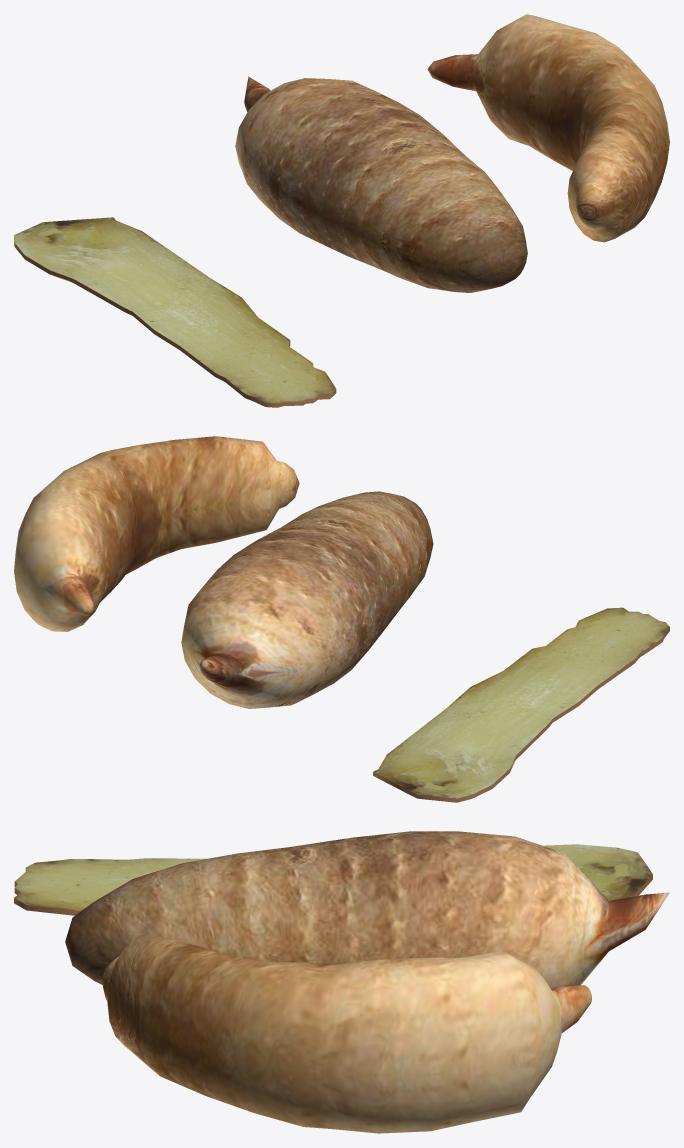
File: tianma.FBX
3 views of the same model, one above another, from view 1: azimuth 30°, elevation 25°; view 2: azimuth 150°, elevation 25°; view 3: azimuth 270°, elevation 25° (orthographic). The views are drawn at different scales.
Parts seen in each view (by area): view 1: Cylinder001, Cylinder002, Line001; view 2: Cylinder001, Cylinder002, Line001; view 3: Cylinder002, Cylinder001, Line001.
Boxes of the visible parts, box(x1,y1,x2,y2) form: Cylinder001: box(235, 76, 527, 292); Cylinder002: box(427, 14, 669, 242); Line001: box(14, 217, 336, 407); Cylinder001: box(181, 491, 433, 708); Cylinder002: box(14, 436, 299, 631); Line001: box(373, 607, 669, 802); Cylinder002: box(102, 933, 591, 1133); Cylinder001: box(65, 831, 669, 988); Line001: box(14, 844, 652, 915).
Size of the model in its own units: 45.87 by 12.32 by 37.64.
